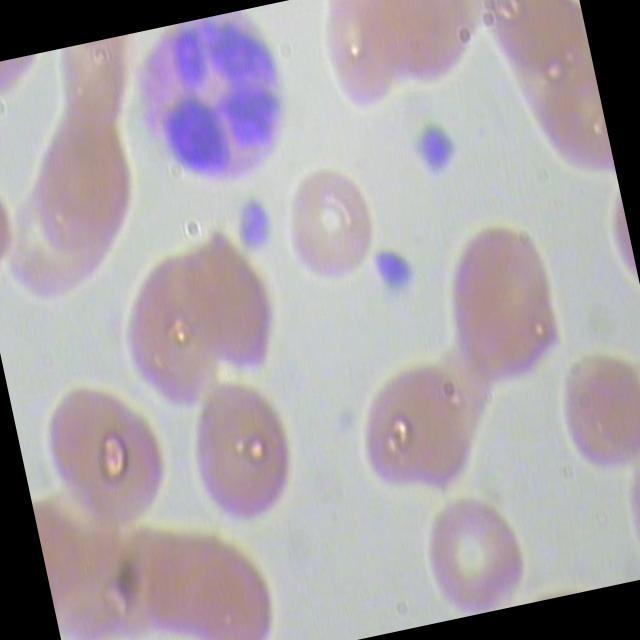Platelets: (403, 118, 468, 186), (228, 186, 285, 256), (366, 234, 420, 300)
RBC: (28, 363, 182, 548), (434, 210, 580, 396), (10, 97, 155, 276), (164, 219, 294, 389), (174, 370, 306, 534), (345, 357, 483, 512), (267, 152, 393, 292), (410, 482, 536, 622), (543, 340, 640, 492), (363, 0, 489, 104)
WBC: (118, 4, 310, 203)
